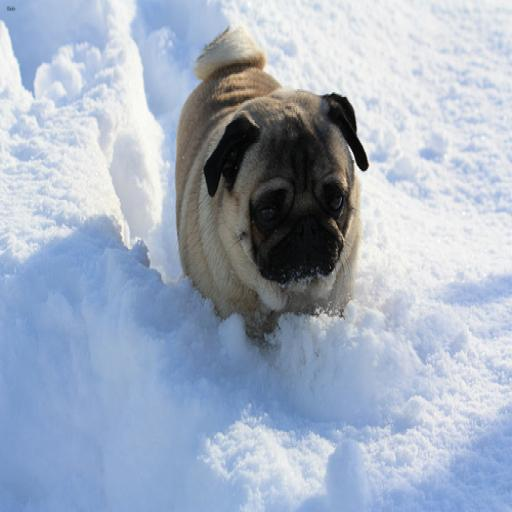dog_face: (200, 88, 372, 304)
